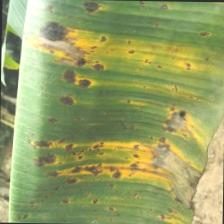pestalotiopsis: (11, 0, 224, 224)
